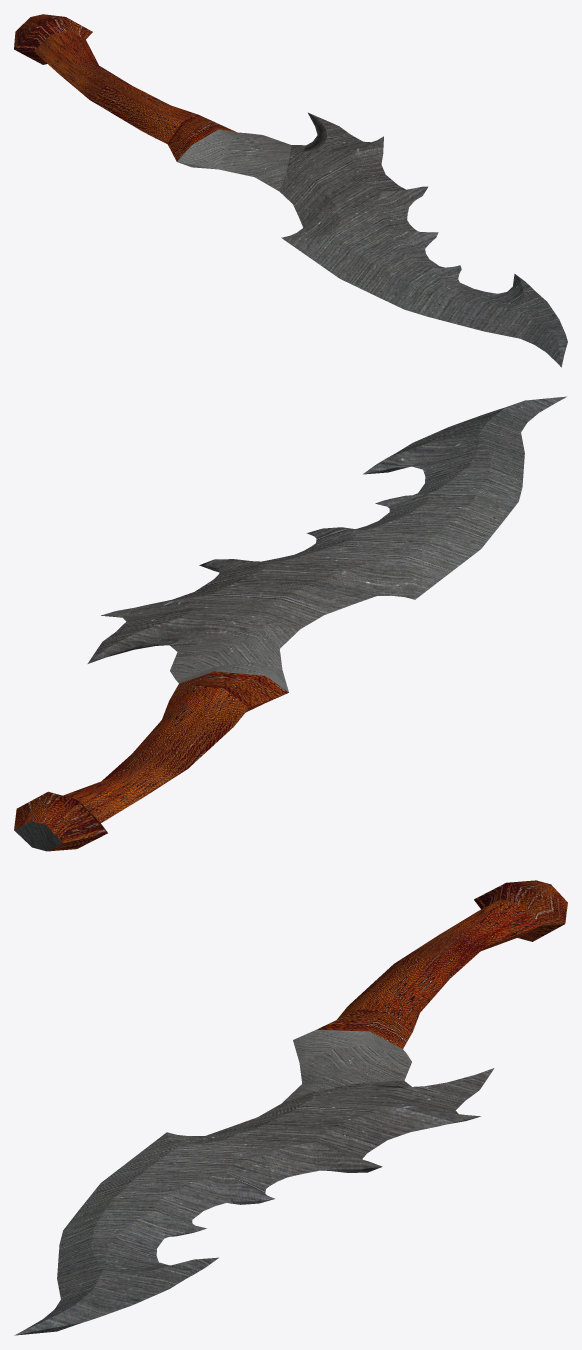
3 views of the same model, one above another, from view 1: azimuth 30°, elevation 25°; view 2: azimuth 150°, elevation 25°; view 3: azimuth 330°, elevation 25° (orthographic). The views are drawn at different scales.
Visible parts, largest first — view 1: dagger4; view 2: dagger4; view 3: dagger4.
Part boxes in pixels (x1,y1,x2,y2): dagger4: [14, 14, 567, 367]; dagger4: [14, 396, 566, 851]; dagger4: [14, 880, 567, 1335].
Size of the model in its own units: 6.3 by 1.34 by 27.86.
2 materials, 2 textured.
